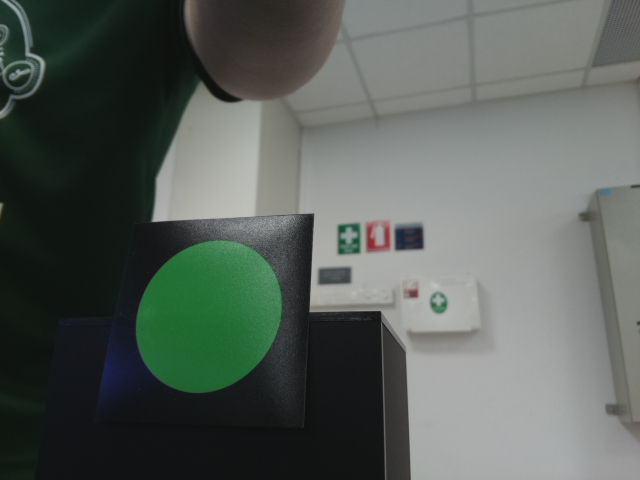go: (135, 233, 291, 396)
